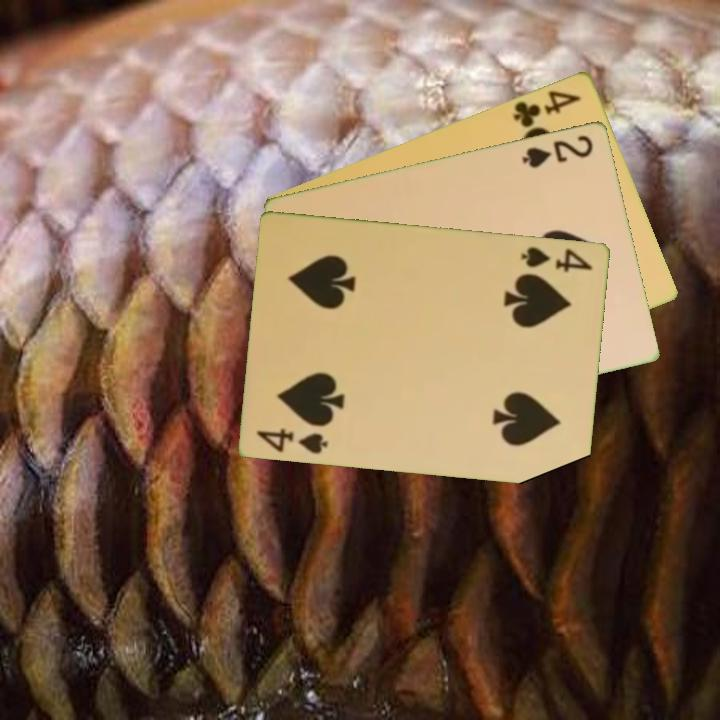2s: (519, 131, 596, 171)
4c: (510, 86, 584, 130)
4s: (518, 242, 596, 274), (254, 424, 331, 456)
